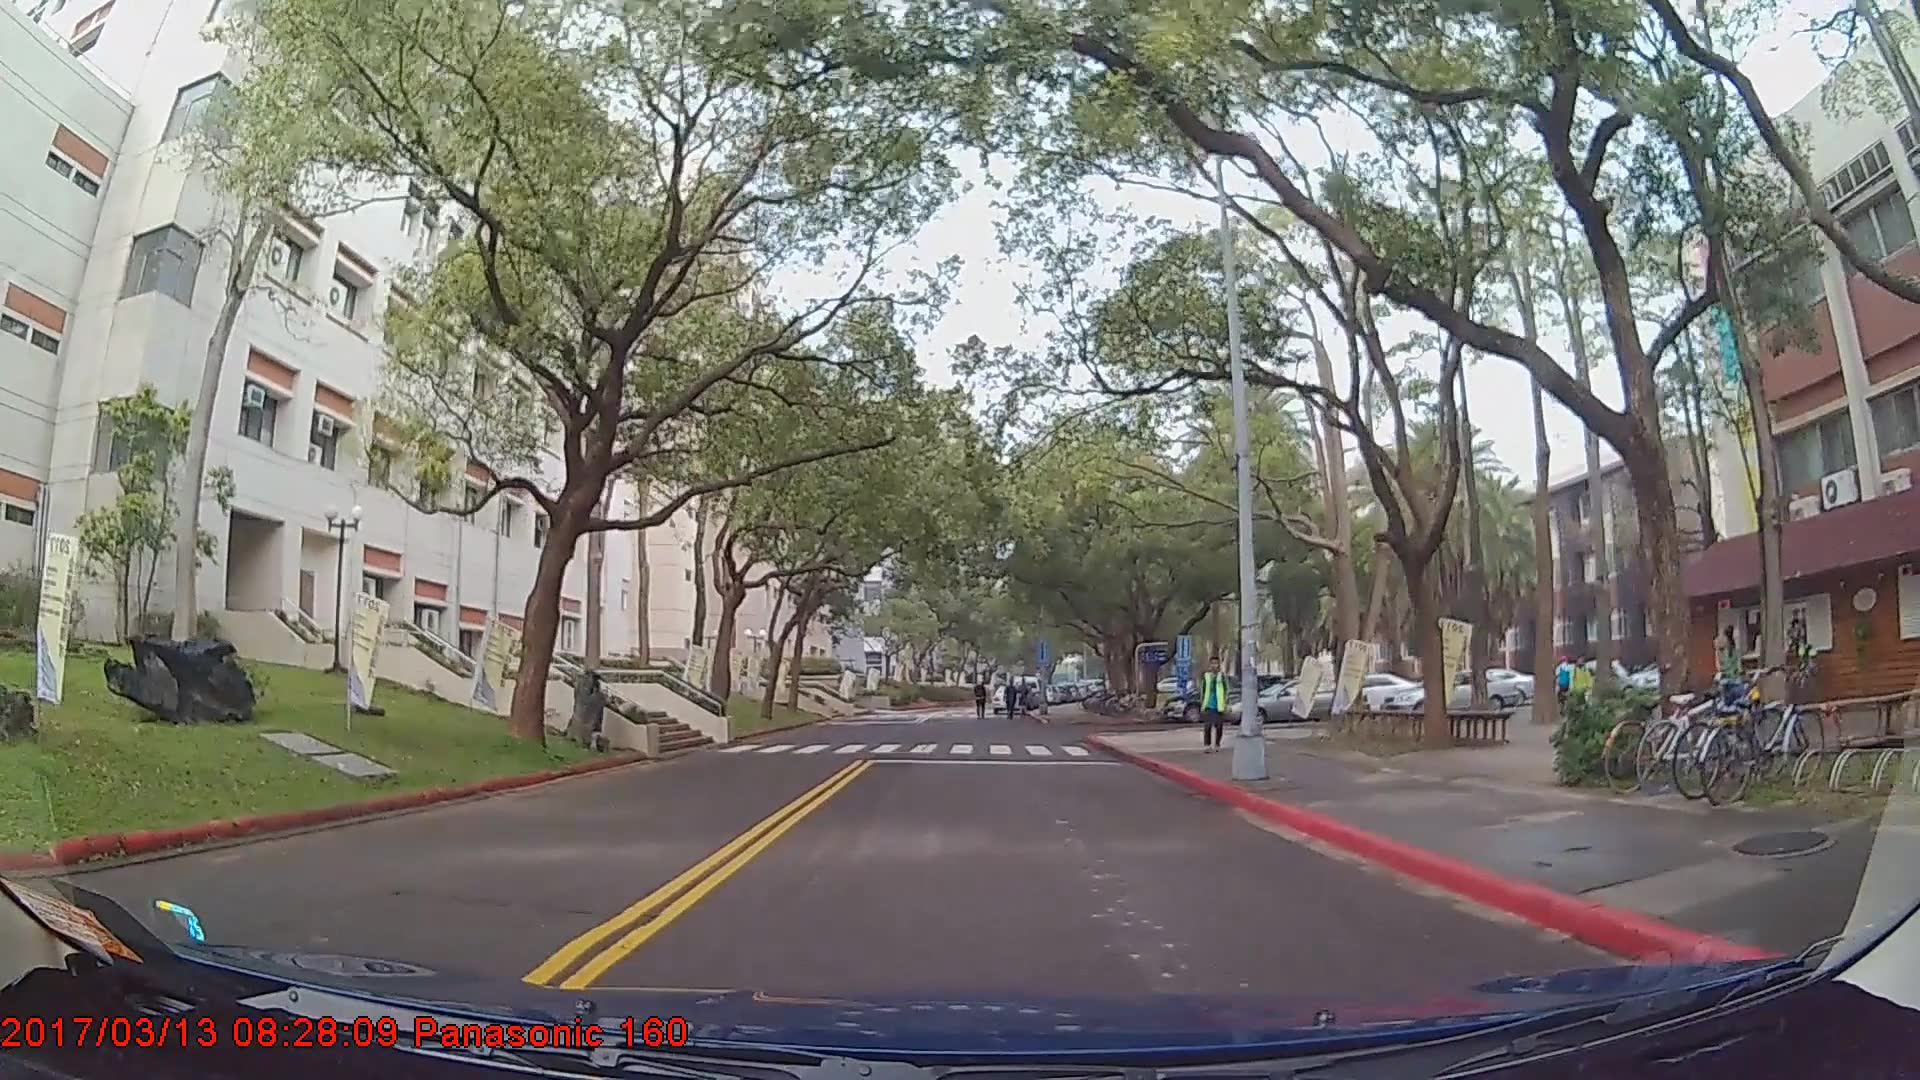pedestrian: (1194, 653, 1230, 752), (1569, 656, 1593, 717), (1002, 677, 1022, 722)
vehicle: (1225, 676, 1370, 728), (1380, 667, 1517, 719)
